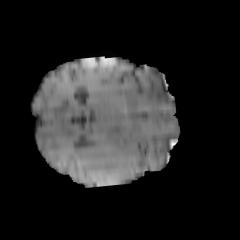glioma: (71, 122, 147, 186)
